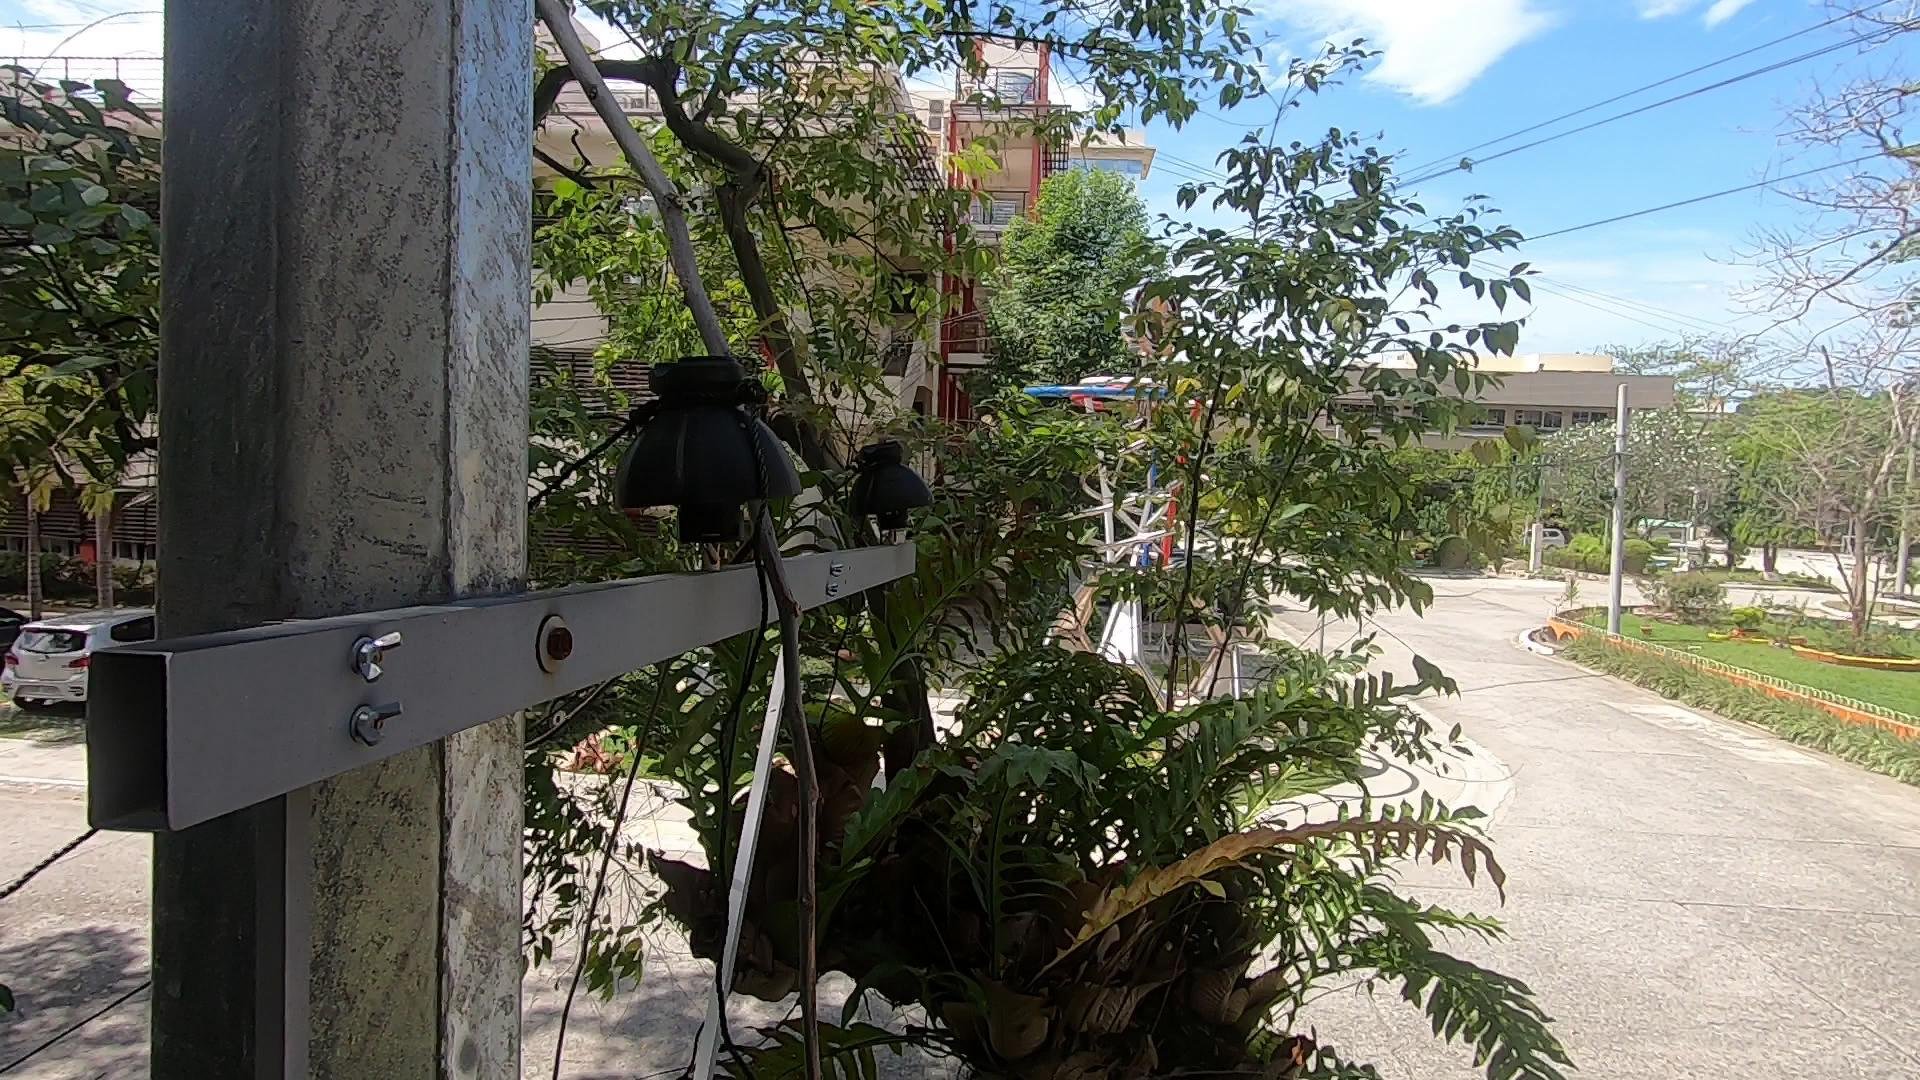tree branch: (524, 3, 897, 1080)
